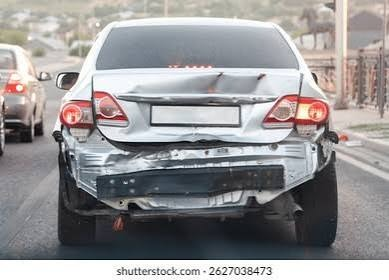car: (54, 11, 343, 242), (43, 21, 316, 171), (1, 49, 45, 144), (53, 83, 129, 136), (1, 46, 37, 113), (38, 54, 84, 91)
